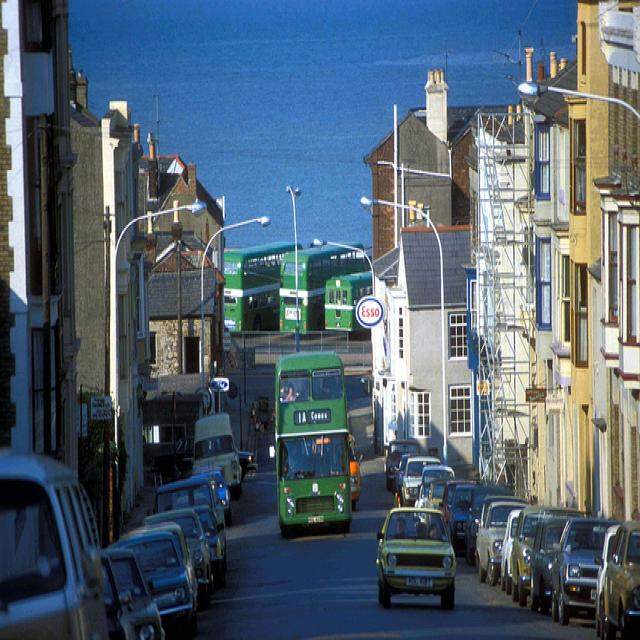Vehicle: (122, 510, 616, 626), (152, 432, 478, 525), (0, 448, 135, 640), (276, 348, 351, 538), (108, 531, 198, 637), (278, 242, 370, 336), (375, 504, 457, 608), (510, 506, 586, 606), (225, 239, 298, 332), (550, 520, 612, 619), (106, 548, 165, 640), (598, 520, 640, 640), (474, 497, 528, 587), (192, 414, 244, 498), (529, 512, 564, 616), (327, 272, 372, 341), (192, 504, 227, 590), (399, 457, 441, 504), (448, 486, 477, 552)
